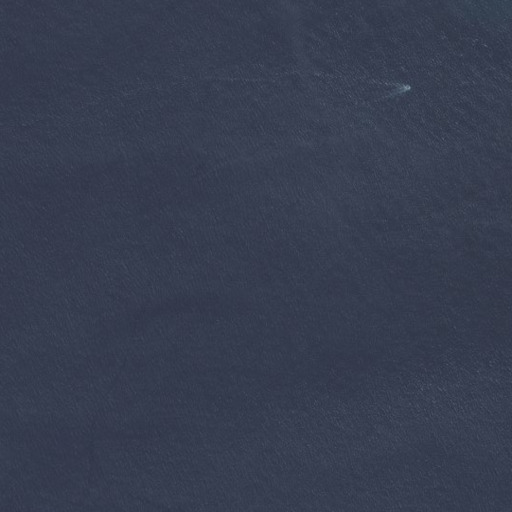ship: (401, 83, 411, 90)
